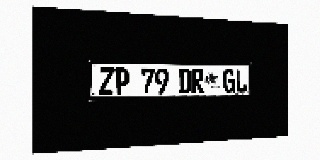7: (141, 68, 155, 94)
9: (155, 68, 168, 94)
D: (178, 68, 191, 94)
G: (223, 69, 235, 93)
L: (235, 69, 247, 93)
P: (115, 68, 129, 95)
R: (191, 69, 204, 93)
Z: (99, 67, 114, 95)
